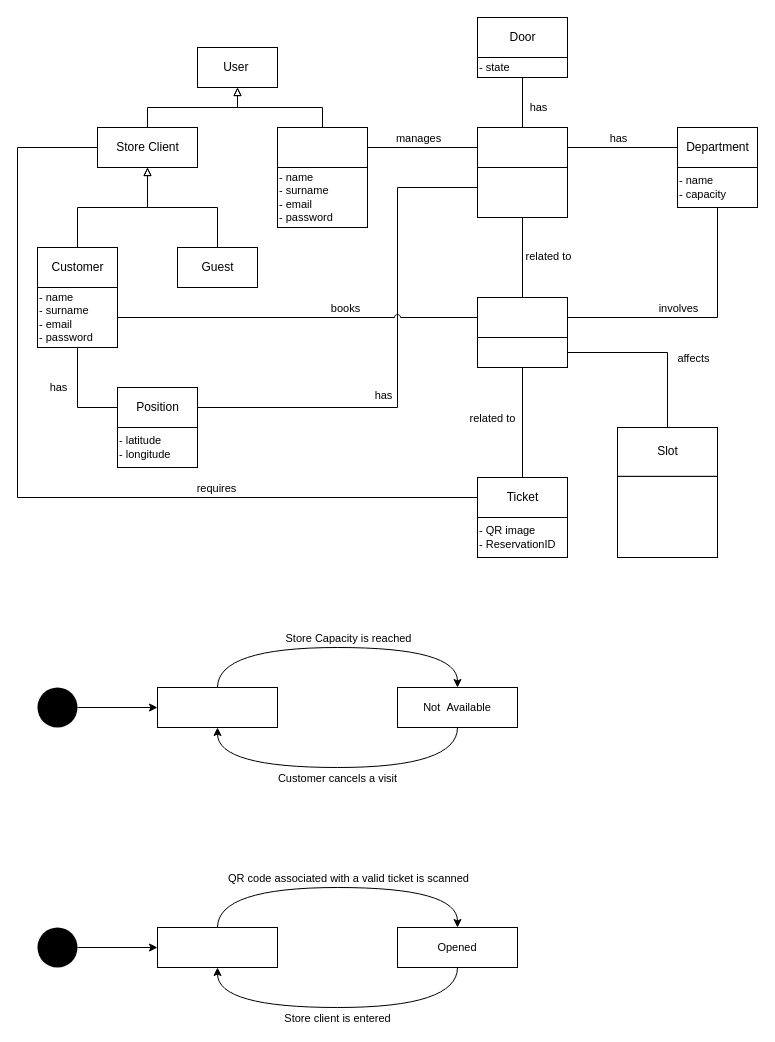
Image size: 775x1042. Some labels were removed from this diagram. Here are the shapes that lost their labels. From the top down, the centre of each, then its label:
(x=322, y=147): Store Manager
(x=522, y=147): Store
(x=522, y=192): - name - opening hours - StoreID
(x=522, y=317): Visit
(x=522, y=352): - transportation
(x=667, y=516): - date - actual time - actural duration - expected time - expected duration
(x=217, y=707): Available
(x=217, y=947): Closed
